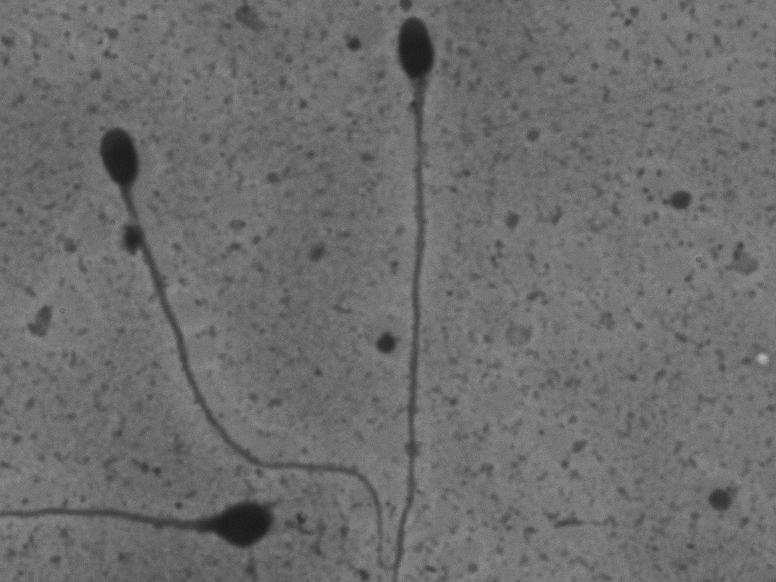Abnormal: (6, 486, 286, 564)
Normal: (84, 111, 395, 578), (388, 9, 459, 567)
